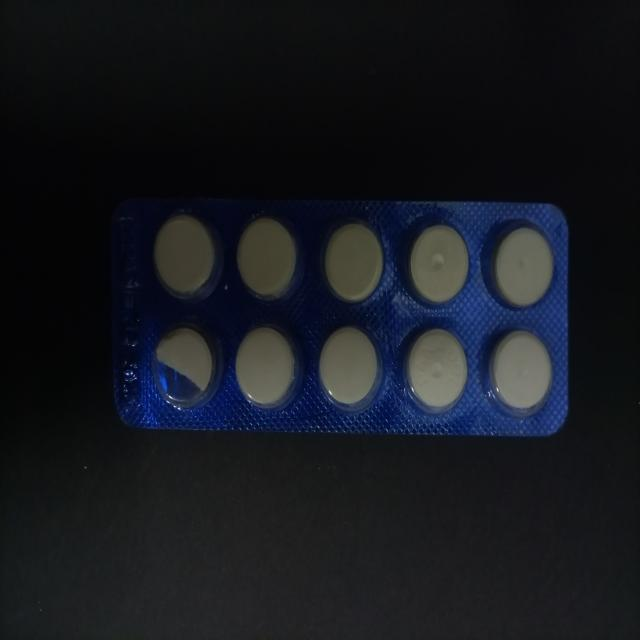defect: (148, 321, 226, 417)
